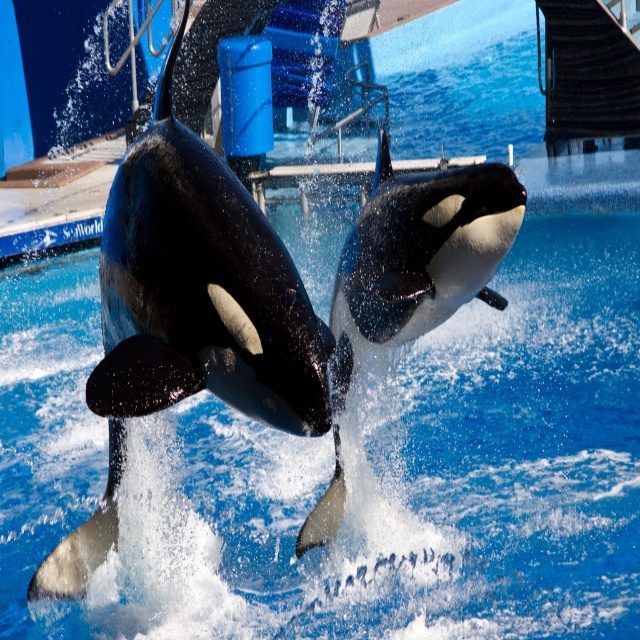Whale: (27, 0, 336, 601), (296, 128, 527, 558)
